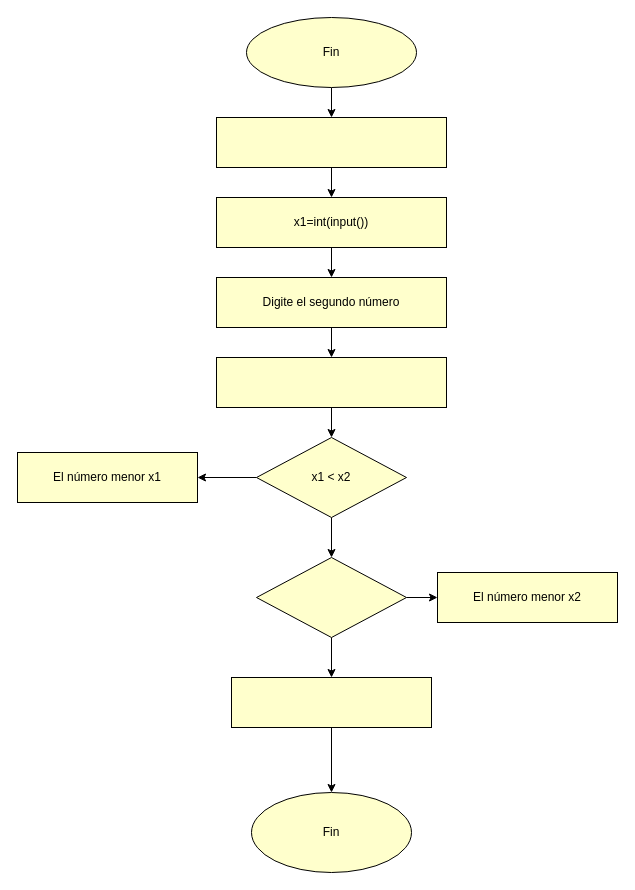
This 635x890 diagram has some shape labels left out. Here are the shapes that lost their labels. From the top down, the centre of each, then its label:
At (331,142): "Digite el primer número".
At (331,382): "x2=int(input())".
At (331,597): "x2 < x1".
At (331,702): "Los números son iguales".
